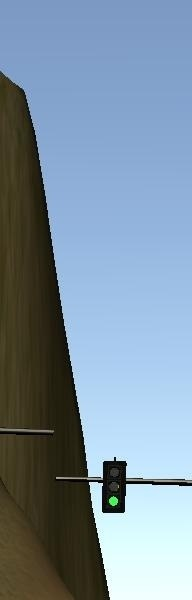Green: (102, 460, 126, 514)
